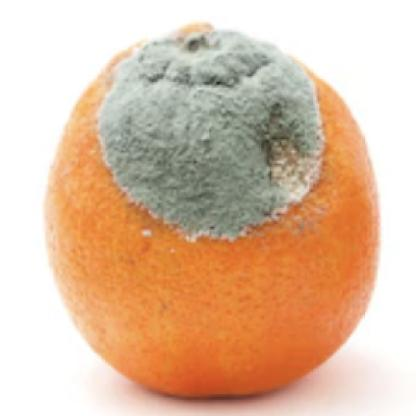rotten: (47, 22, 380, 394)
